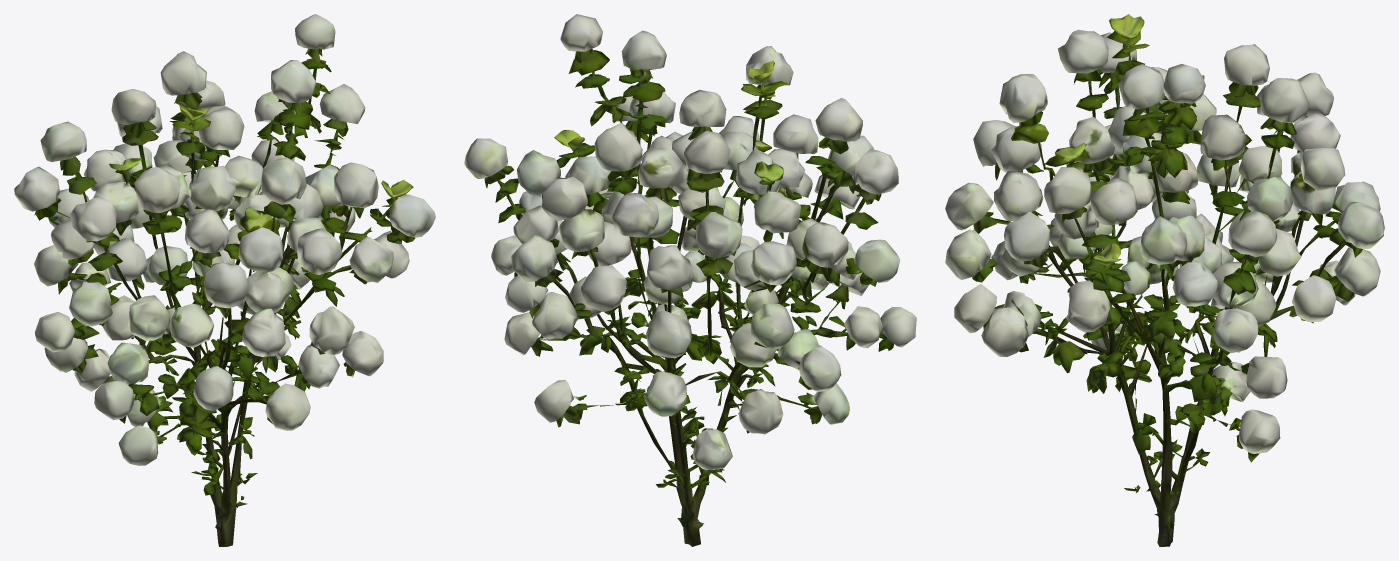
File: MuXiuQiu.glb
3 renders of one model, left to right at view 1: azimuth 30°, elevation 25°; view 2: azimuth 150°, elevation 25°; view 3: azimuth 270°, elevation 25°, orthographic. The views are drawn at different scales.
Parts seen in each view (by area): view 1: tripo_node_a0d95e01-1499-425f-aee2-f16608710db7; view 2: tripo_node_a0d95e01-1499-425f-aee2-f16608710db7; view 3: tripo_node_a0d95e01-1499-425f-aee2-f16608710db7.
Part boxes in pixels (x1=…): tripo_node_a0d95e01-1499-425f-aee2-f16608710db7: x1=14, y1=14, x2=435, y2=546; tripo_node_a0d95e01-1499-425f-aee2-f16608710db7: x1=464, y1=14, x2=916, y2=546; tripo_node_a0d95e01-1499-425f-aee2-f16608710db7: x1=945, y1=14, x2=1384, y2=546.
Size of the model in its own units: 0.7463 by 0.9786 by 0.7344.
Materials: 1 (1 with a texture image).
